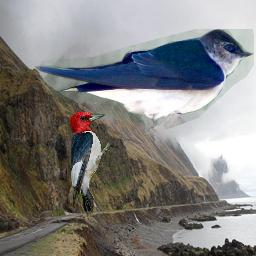Swallow: (35, 29, 254, 137)
Woodpecker: (67, 112, 113, 222)
